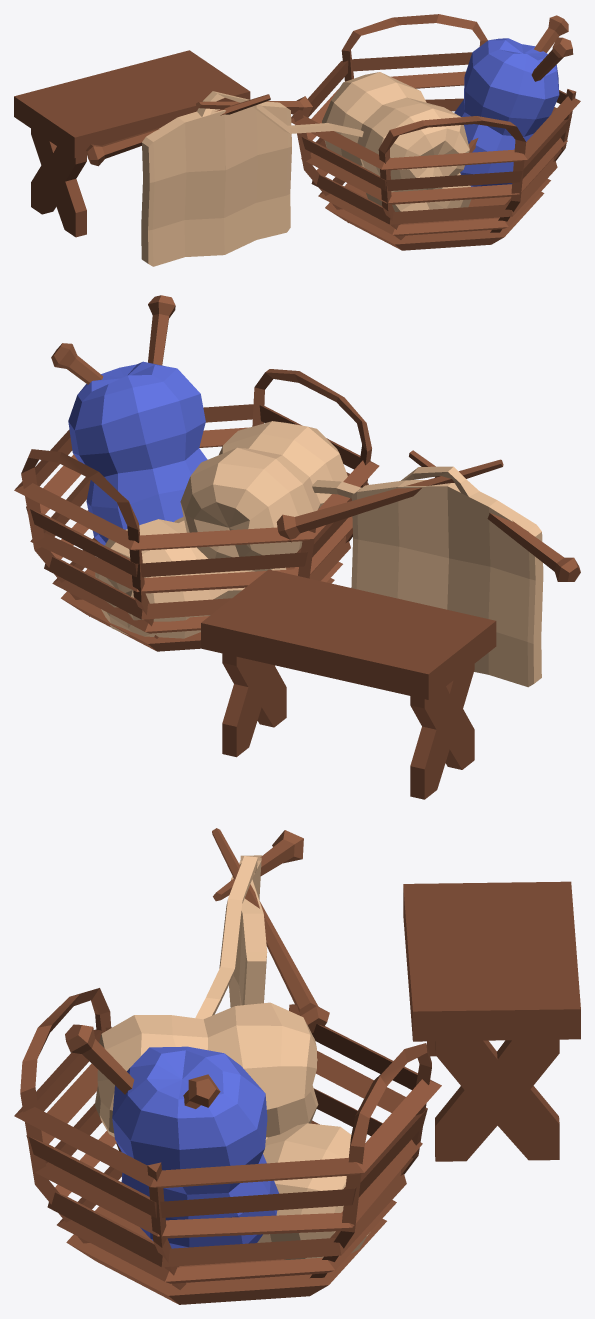
Rendered from knitting.fbx.
3 renders of one model, top to bottom at view 1: azimuth 30°, elevation 25°; view 2: azimuth 150°, elevation 25°; view 3: azimuth 270°, elevation 25°, orthographic. The views are drawn at different scales.
Visible parts, largest first — view 1: basket, knitting, clew_wool.003, banch.002, knitting needles.001, knitting needles.002; view 2: clew_wool.003, banch.002, basket, knitting, knitting needles.002, knitting needles.001; view 3: basket, clew_wool.003, banch.002, knitting, knitting needles.002, knitting needles.001.
Part boxes in pixels (bbox=[...]): basket: bbox=[291, 14, 580, 250]; knitting: bbox=[141, 91, 363, 266]; clew_wool.003: bbox=[322, 15, 573, 223]; banch.002: bbox=[14, 50, 250, 237]; knitting needles.001: bbox=[86, 94, 270, 166]; knitting needles.002: bbox=[196, 96, 313, 117]; clew_wool.003: bbox=[51, 295, 347, 638]; banch.002: bbox=[201, 569, 496, 799]; basket: bbox=[14, 369, 379, 651]; knitting: bbox=[312, 466, 543, 687]; knitting needles.002: bbox=[276, 459, 503, 542]; knitting needles.001: bbox=[409, 450, 580, 581]; basket: bbox=[14, 988, 441, 1304]; clew_wool.003: bbox=[65, 1002, 370, 1259]; banch.002: bbox=[403, 881, 580, 1161]; knitting: bbox=[195, 855, 267, 1019]; knitting needles.002: bbox=[212, 828, 329, 1032]; knitting needles.001: bbox=[213, 830, 303, 901].
Size of the model in its own units: 117 by 48.81 by 87.56.
